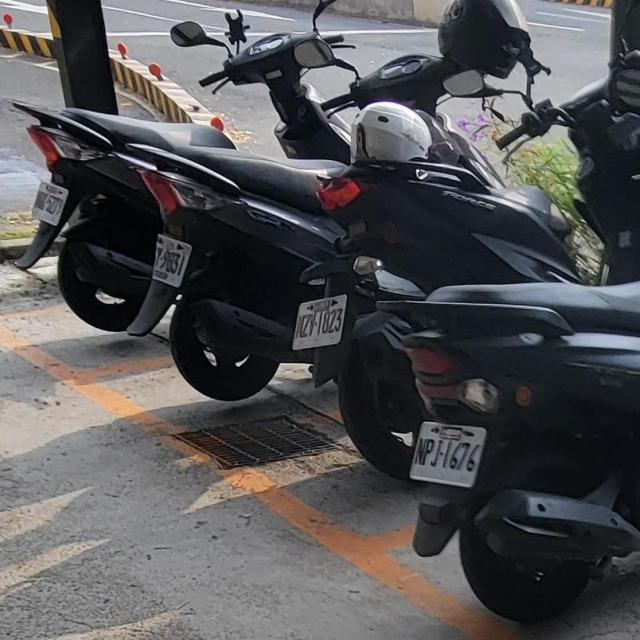W: (410, 418, 488, 491), (289, 293, 350, 355), (149, 229, 193, 288), (30, 175, 70, 228)
